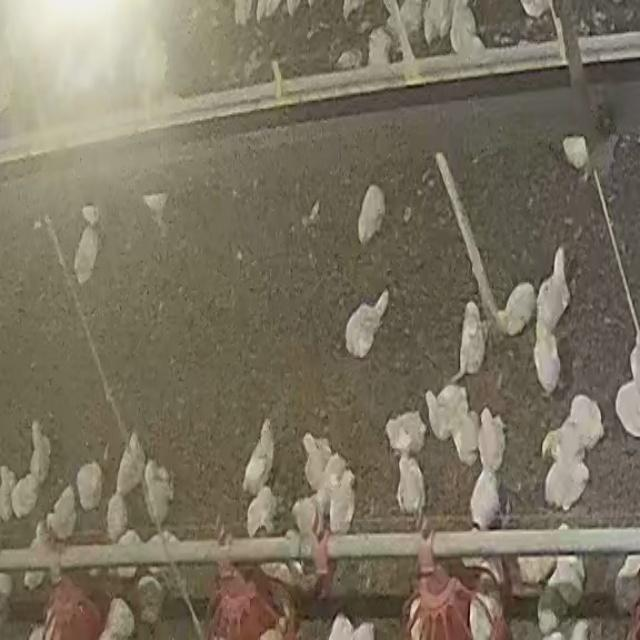chicken: (446, 300, 490, 383), (536, 242, 578, 325), (343, 290, 390, 358), (461, 464, 511, 522), (532, 578, 581, 635), (244, 415, 281, 487), (492, 281, 538, 338), (528, 316, 560, 396), (394, 455, 434, 519), (542, 459, 589, 513), (143, 462, 180, 528), (426, 383, 468, 436), (355, 184, 388, 246), (567, 396, 606, 448), (112, 434, 146, 492), (45, 483, 79, 541), (26, 417, 56, 481), (290, 491, 334, 534), (72, 223, 102, 285), (378, 411, 424, 451), (611, 552, 640, 614), (541, 420, 587, 459), (478, 408, 506, 468), (449, 408, 479, 464), (96, 596, 134, 640), (244, 487, 276, 537), (303, 431, 330, 488), (518, 555, 558, 586), (12, 472, 38, 517), (78, 462, 102, 508), (340, 469, 358, 530), (108, 494, 126, 536)
